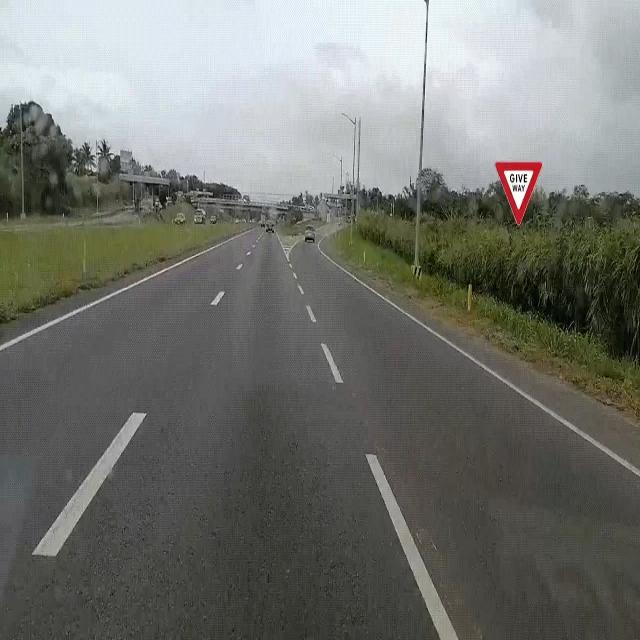Ceder-le-Passage: (494, 146, 546, 236)
